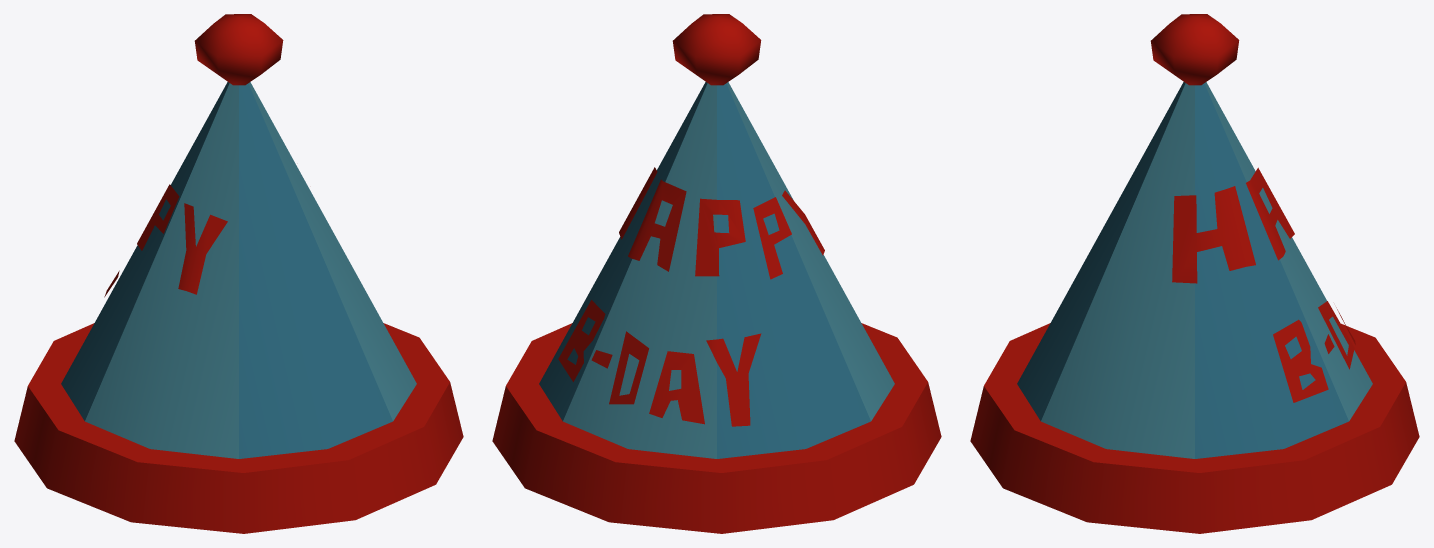
File: hat_birthday2.glb
The picture shows the model from 3 angles, left to right: view 1: azimuth 30°, elevation 25°; view 2: azimuth 150°, elevation 25°; view 3: azimuth 270°, elevation 25°; orthographic projection.
Parts seen in each view (by area): view 1: hat_birthday2; view 2: hat_birthday2; view 3: hat_birthday2.
Part boxes in pixels (<box>): hat_birthday2: <box>14,14,463,533</box>; hat_birthday2: <box>492,14,941,533</box>; hat_birthday2: <box>970,14,1419,533</box>.
Bounding box in the file's own units: 0.2333 × 0.2417 × 0.2333.
